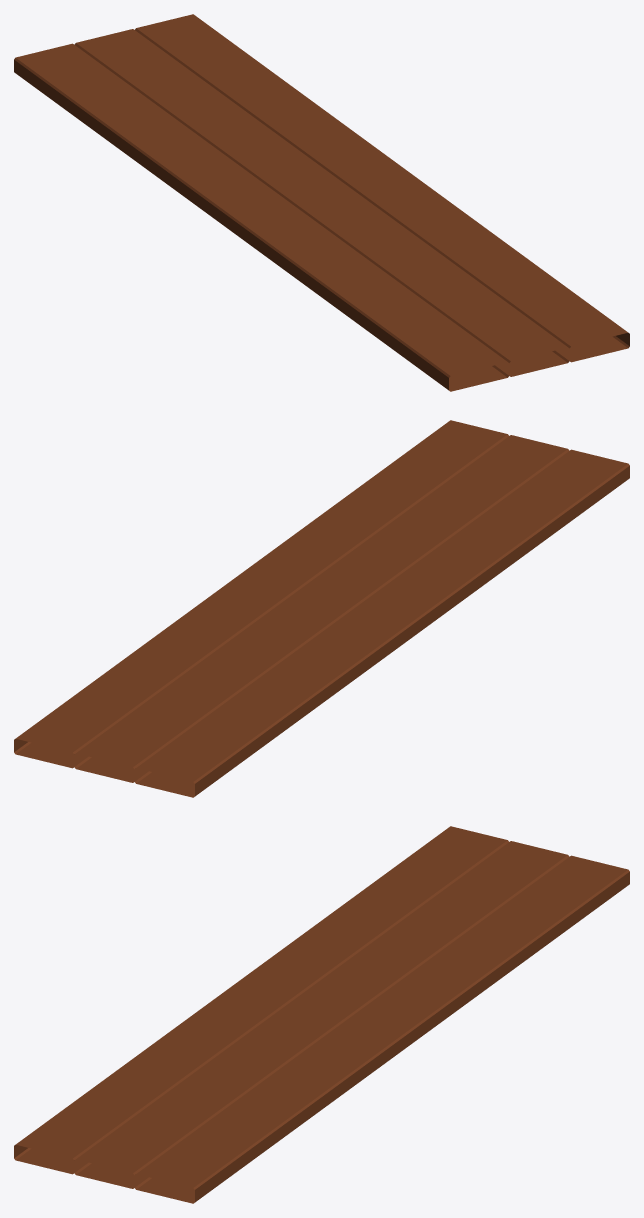
Rendered from Table_middle_new.fbx.
3 views of the same model, one above another, from view 1: azimuth 30°, elevation 25°; view 2: azimuth 150°, elevation 25°; view 3: azimuth 330°, elevation 25° (orthographic).
Parts seen in each view (by area): view 1: Table_plank_end_object.001; view 2: Table_plank_end_object.001; view 3: Table_plank_end_object.001.
Part boxes in pixels (<box>): Table_plank_end_object.001: <box>14,14,629,391</box>; Table_plank_end_object.001: <box>14,420,629,797</box>; Table_plank_end_object.001: <box>14,826,629,1203</box>.
Bounding box in the file's own units: 1200 × 100 × 5000.
